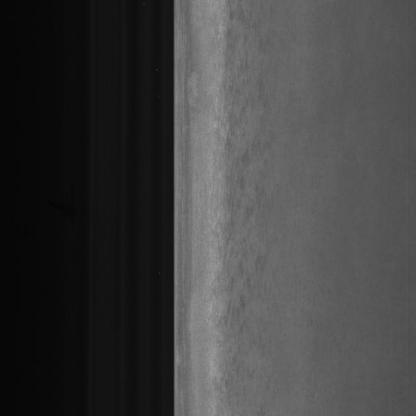silk_spot: (222, 76, 263, 346)
